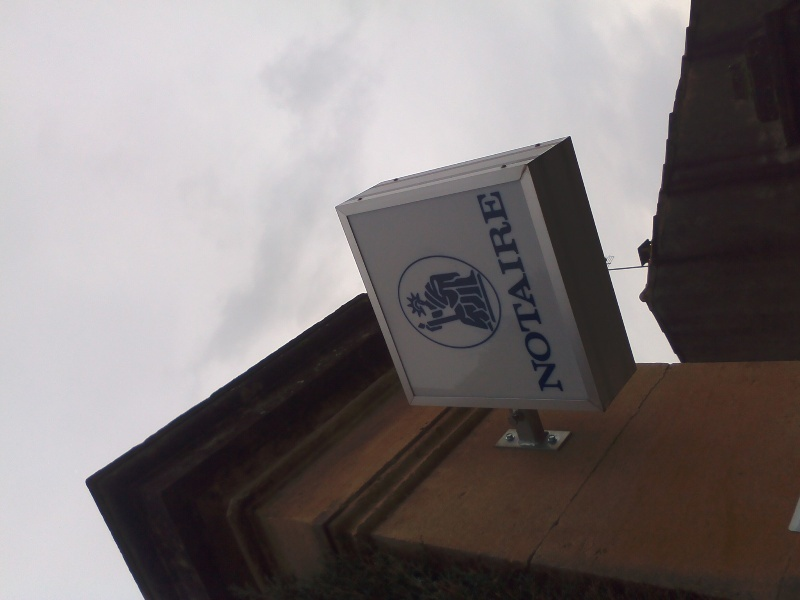text: (513, 189, 528, 395), (529, 189, 544, 395), (545, 189, 560, 395), (502, 189, 512, 395), (561, 189, 568, 395)
